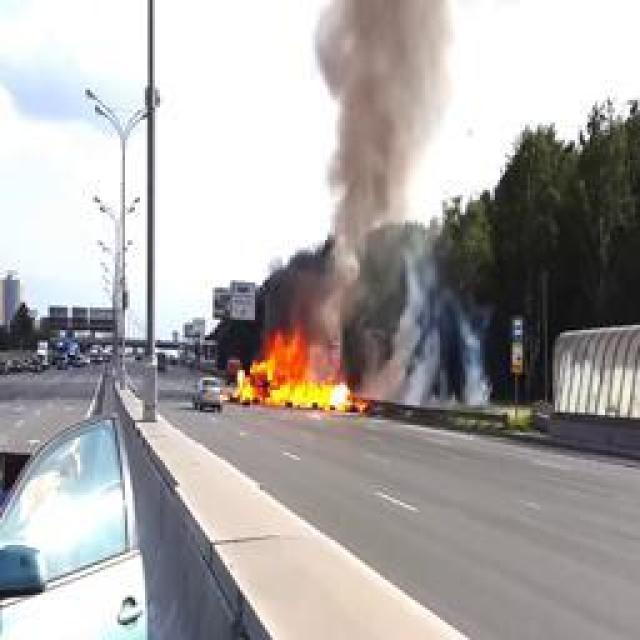Fire: (235, 326, 355, 412)
